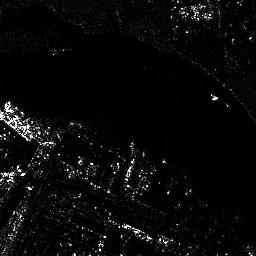ship: (4, 99, 51, 138)
